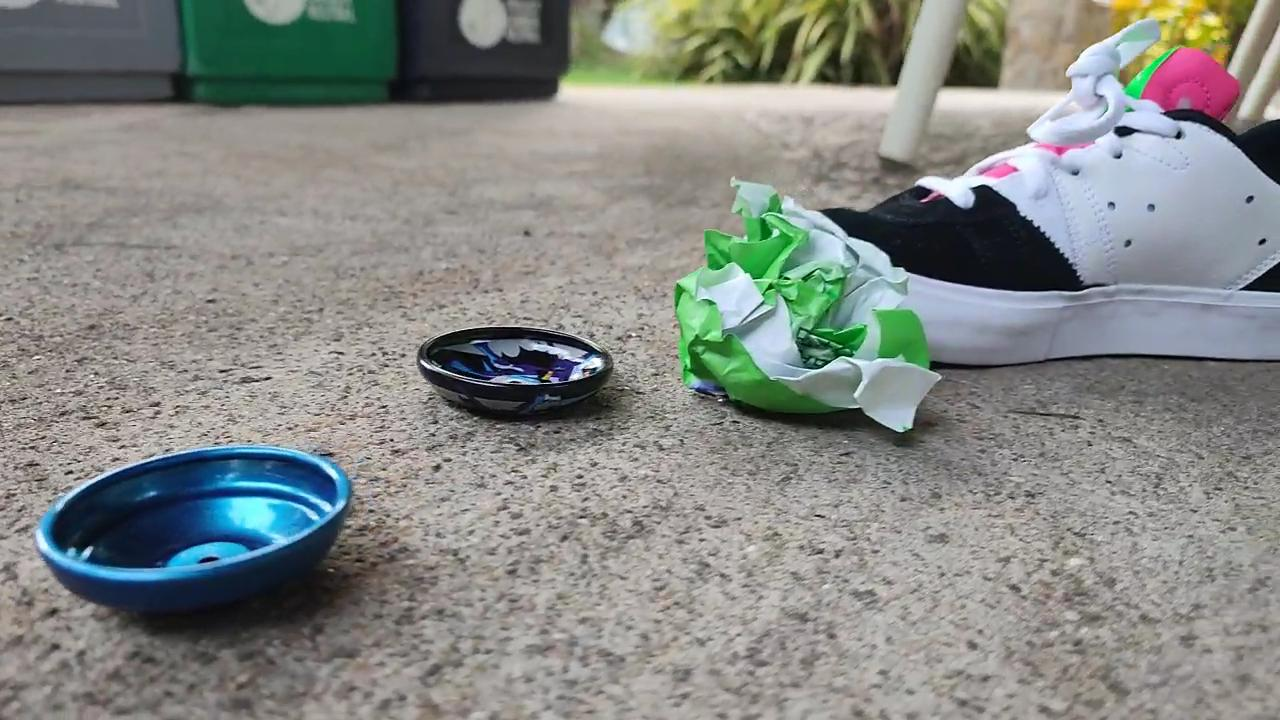Paper: (662, 174, 952, 450)
